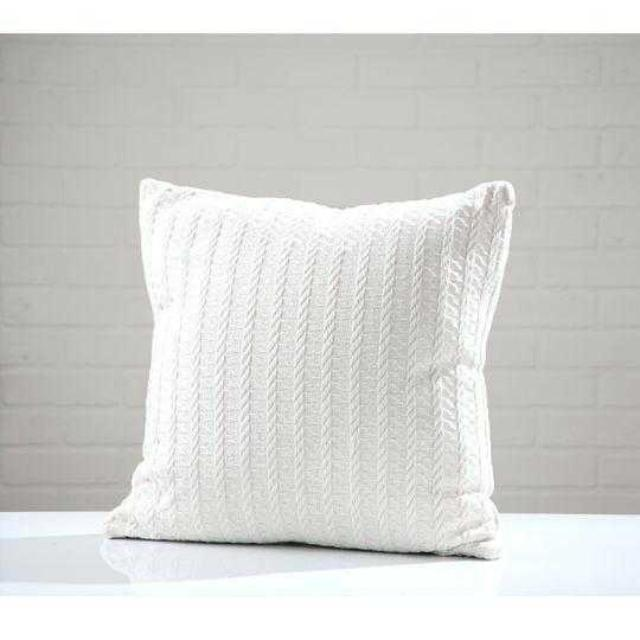pillow: (102, 175, 516, 559)
